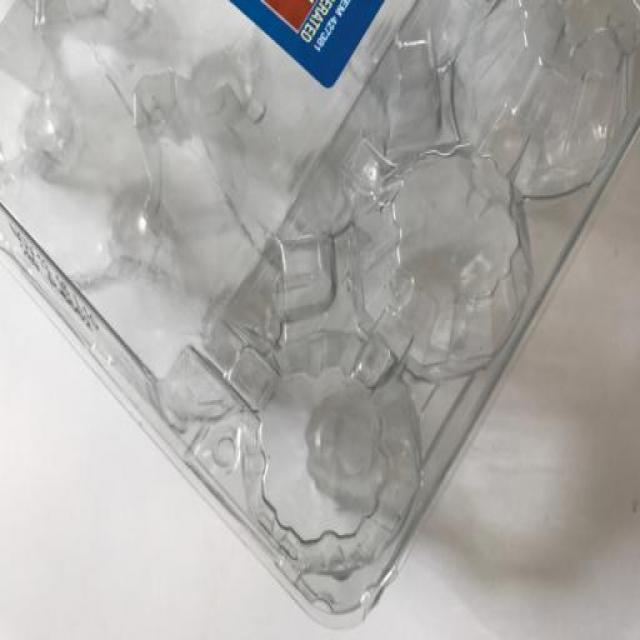plastic: (1, 4, 640, 640)
